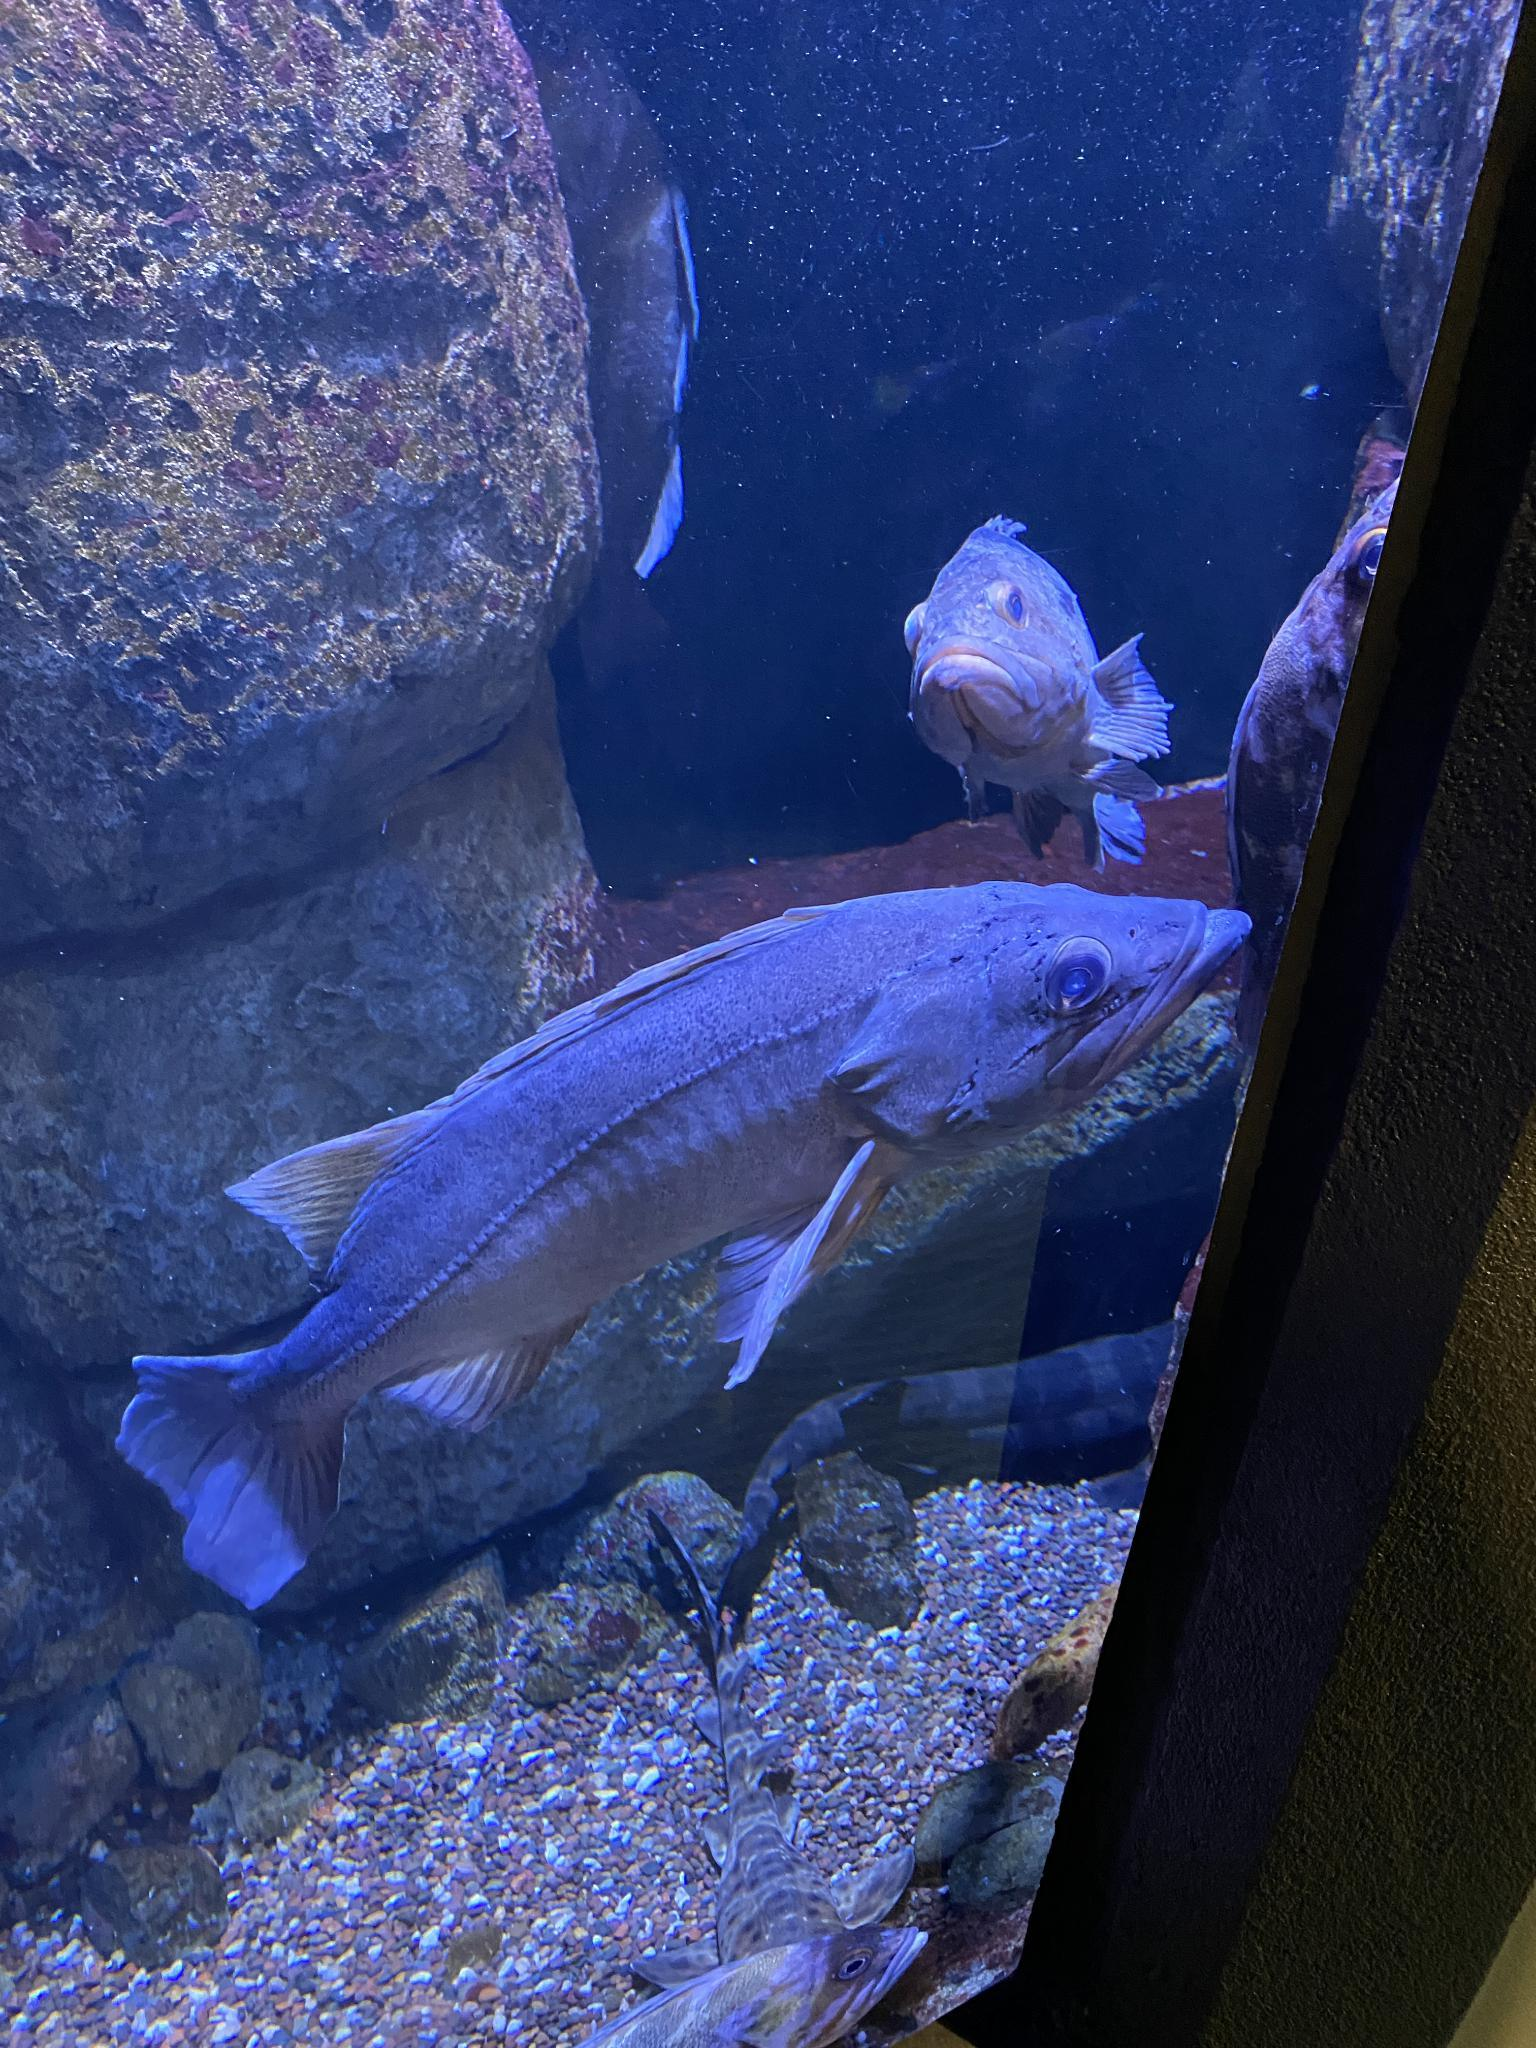fish: (119, 880, 1257, 1614), (1231, 471, 1413, 1055), (900, 513, 1170, 872), (563, 173, 694, 685), (579, 1922, 933, 2048)
shark: (708, 1309, 1199, 1634), (632, 1505, 913, 2048)
